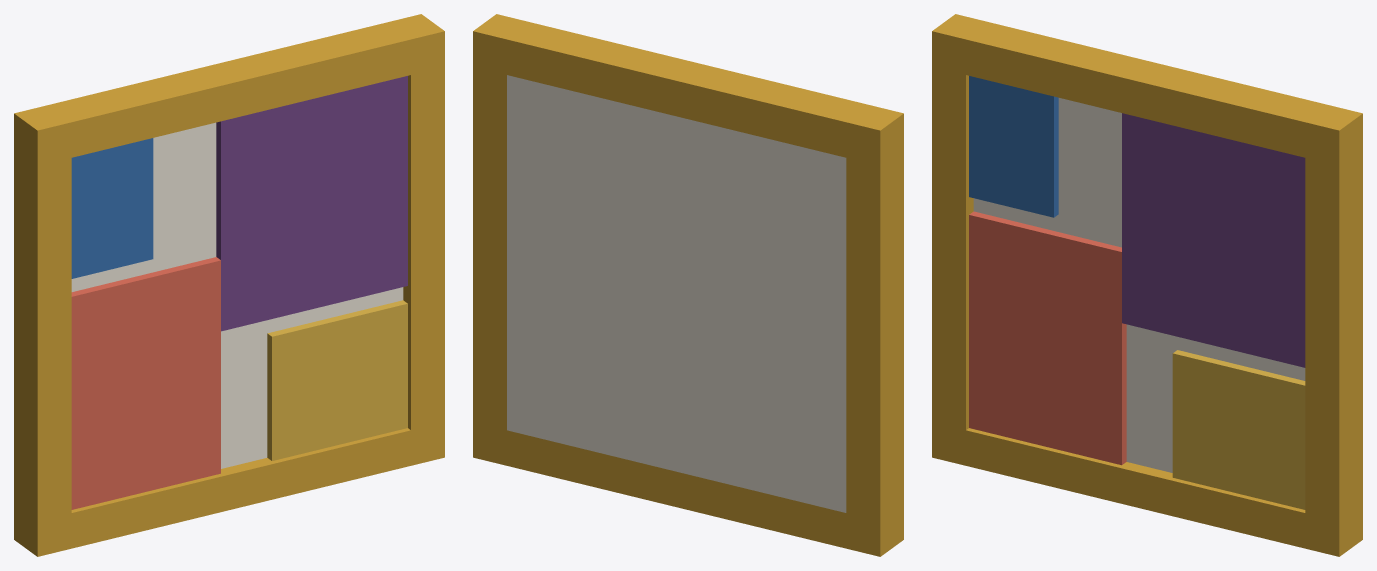
The model's file is paintingAbstract.glb.
3 renders of one model, left to right at view 1: azimuth 30°, elevation 25°; view 2: azimuth 150°, elevation 25°; view 3: azimuth 330°, elevation 25°, orthographic.
Parts seen in each view (by area): view 1: paintingAbstract; view 2: paintingAbstract; view 3: paintingAbstract.
Part boxes in pixels (left/top/right/bottom): paintingAbstract: left=14, top=14, right=444, bottom=556; paintingAbstract: left=473, top=14, right=903, bottom=556; paintingAbstract: left=932, top=14, right=1362, bottom=556.
Bounding box in the file's own units: 0.3 × 0.3 × 0.03.
Materials: 1 (1 with a texture image).
